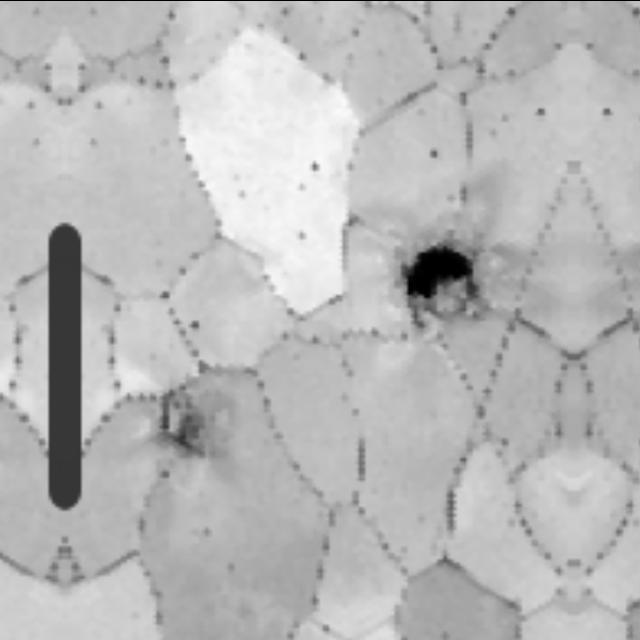good_void: (378, 189, 519, 335), (158, 376, 228, 473), (530, 97, 553, 117), (597, 97, 620, 117), (425, 142, 447, 161), (307, 158, 327, 177), (188, 317, 206, 335), (296, 226, 313, 243), (311, 331, 328, 346), (92, 98, 107, 113), (25, 98, 39, 113)
